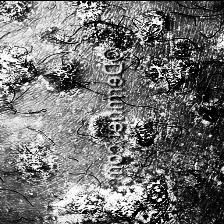Non-Cancerous Skin Condition: (0, 48, 84, 90), (80, 107, 160, 149), (13, 134, 54, 178)
